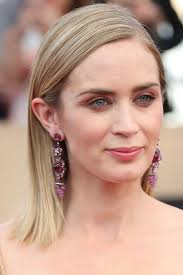n.blunt: (114, 99, 140, 140)
